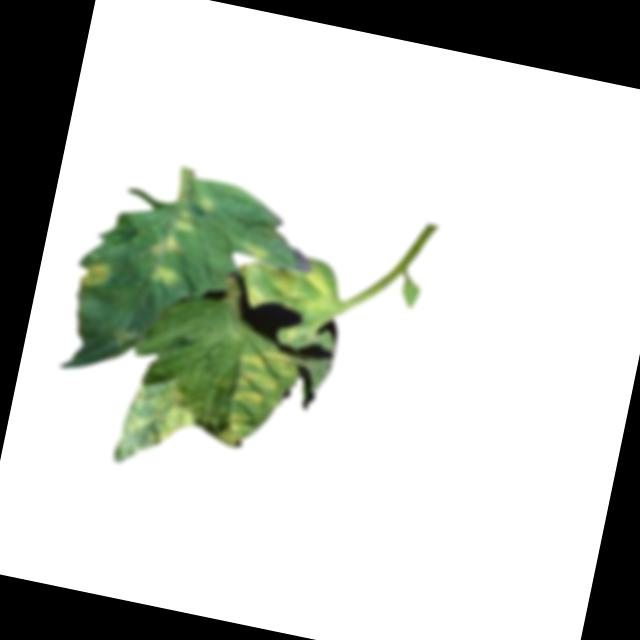Leaf_Mold: (219, 343, 306, 456), (233, 238, 346, 324), (113, 374, 204, 479), (145, 182, 213, 292), (78, 258, 116, 296)
